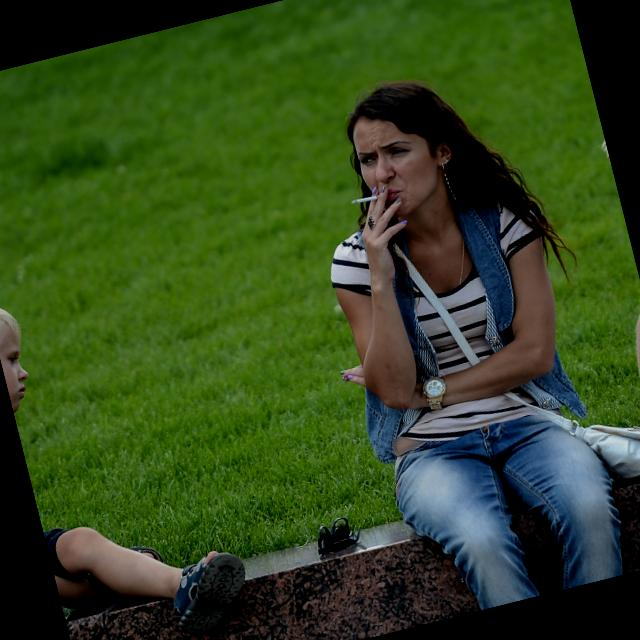cigarette: (348, 188, 384, 210)
